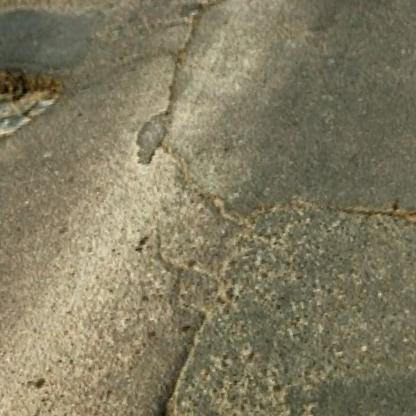pothole: (0, 34, 67, 172)
